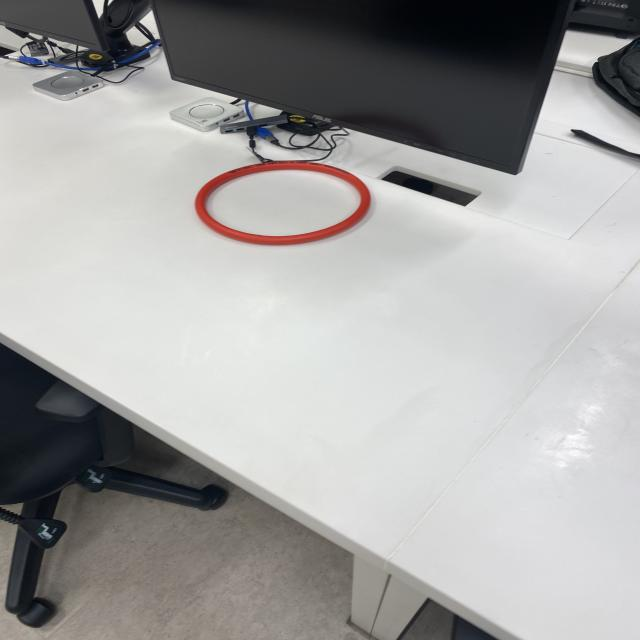daire: (194, 159, 375, 249)
